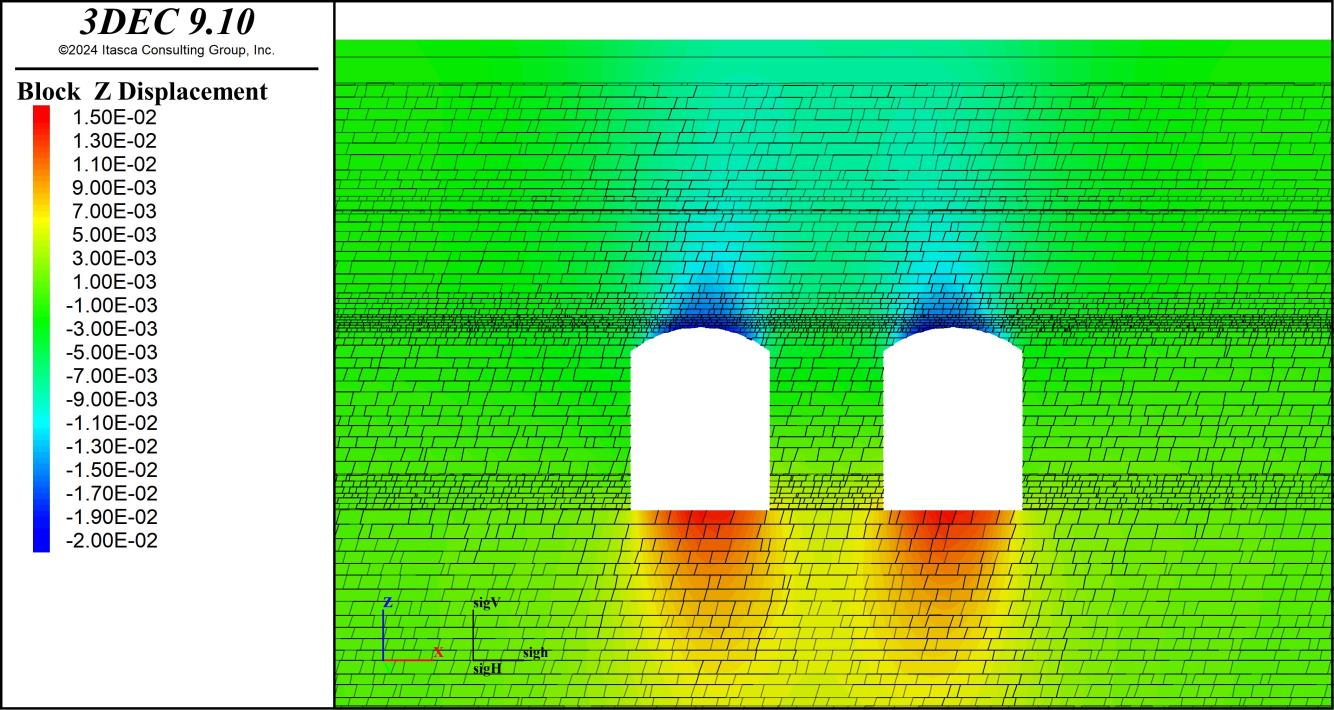crown: (932, 306, 972, 327), (681, 309, 714, 329)
label: (4, 2, 334, 710)
tunnel-opening: (882, 328, 1022, 510), (630, 329, 770, 509)
